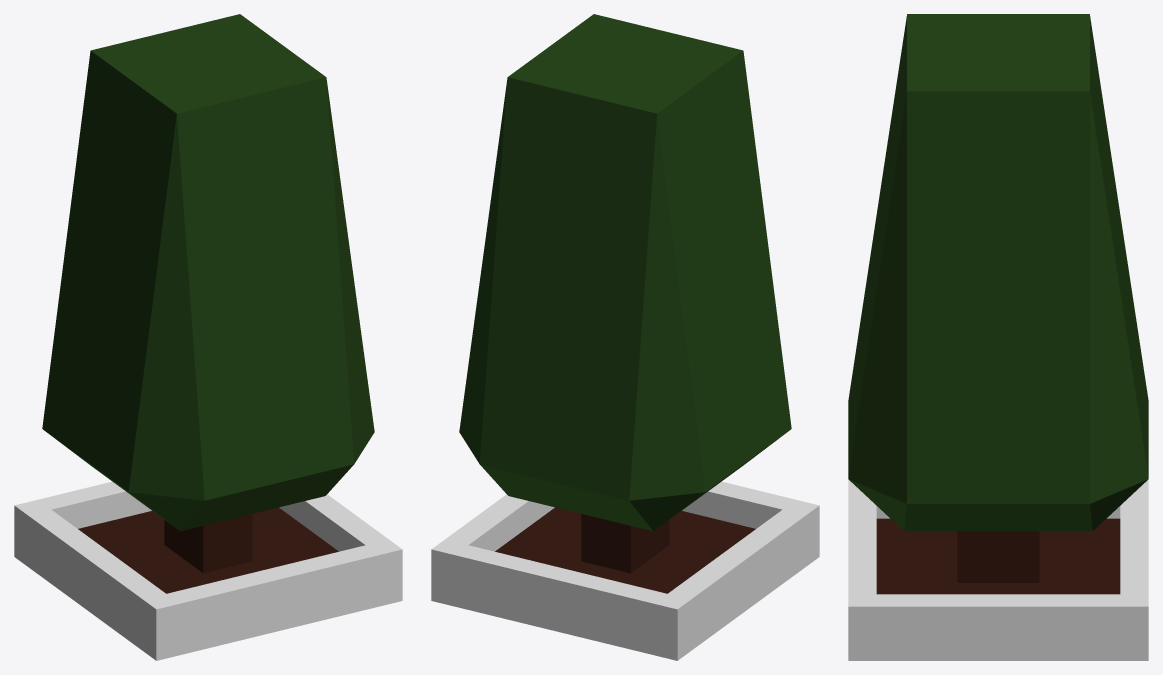
The model's file is Hedge.002.fbx.
The picture shows the model from 3 angles, left to right: view 1: azimuth 30°, elevation 25°; view 2: azimuth 150°, elevation 25°; view 3: azimuth 270°, elevation 25°; orthographic projection. The views are drawn at different scales.
Parts seen in each view (by area): view 1: Hedge.002; view 2: Hedge.002; view 3: Hedge.002.
Part boxes in pixels (box(x1,y1,x2,y2)): Hedge.002: box(14, 14, 402, 660); Hedge.002: box(431, 14, 819, 660); Hedge.002: box(848, 14, 1148, 660).
Size of the model in its own units: 100 by 200 by 100.
